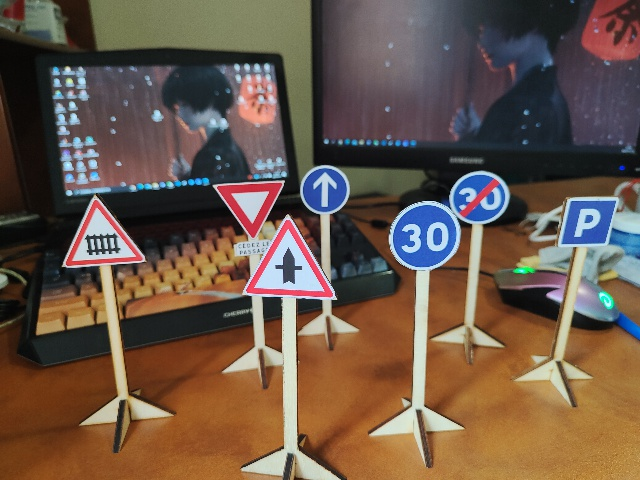P: (557, 196, 618, 248)
ban: (449, 169, 507, 224)
first: (243, 213, 338, 301)
second: (213, 179, 284, 252)
straight: (300, 163, 349, 215)
thirty: (390, 201, 461, 271)
train: (58, 191, 147, 267)
